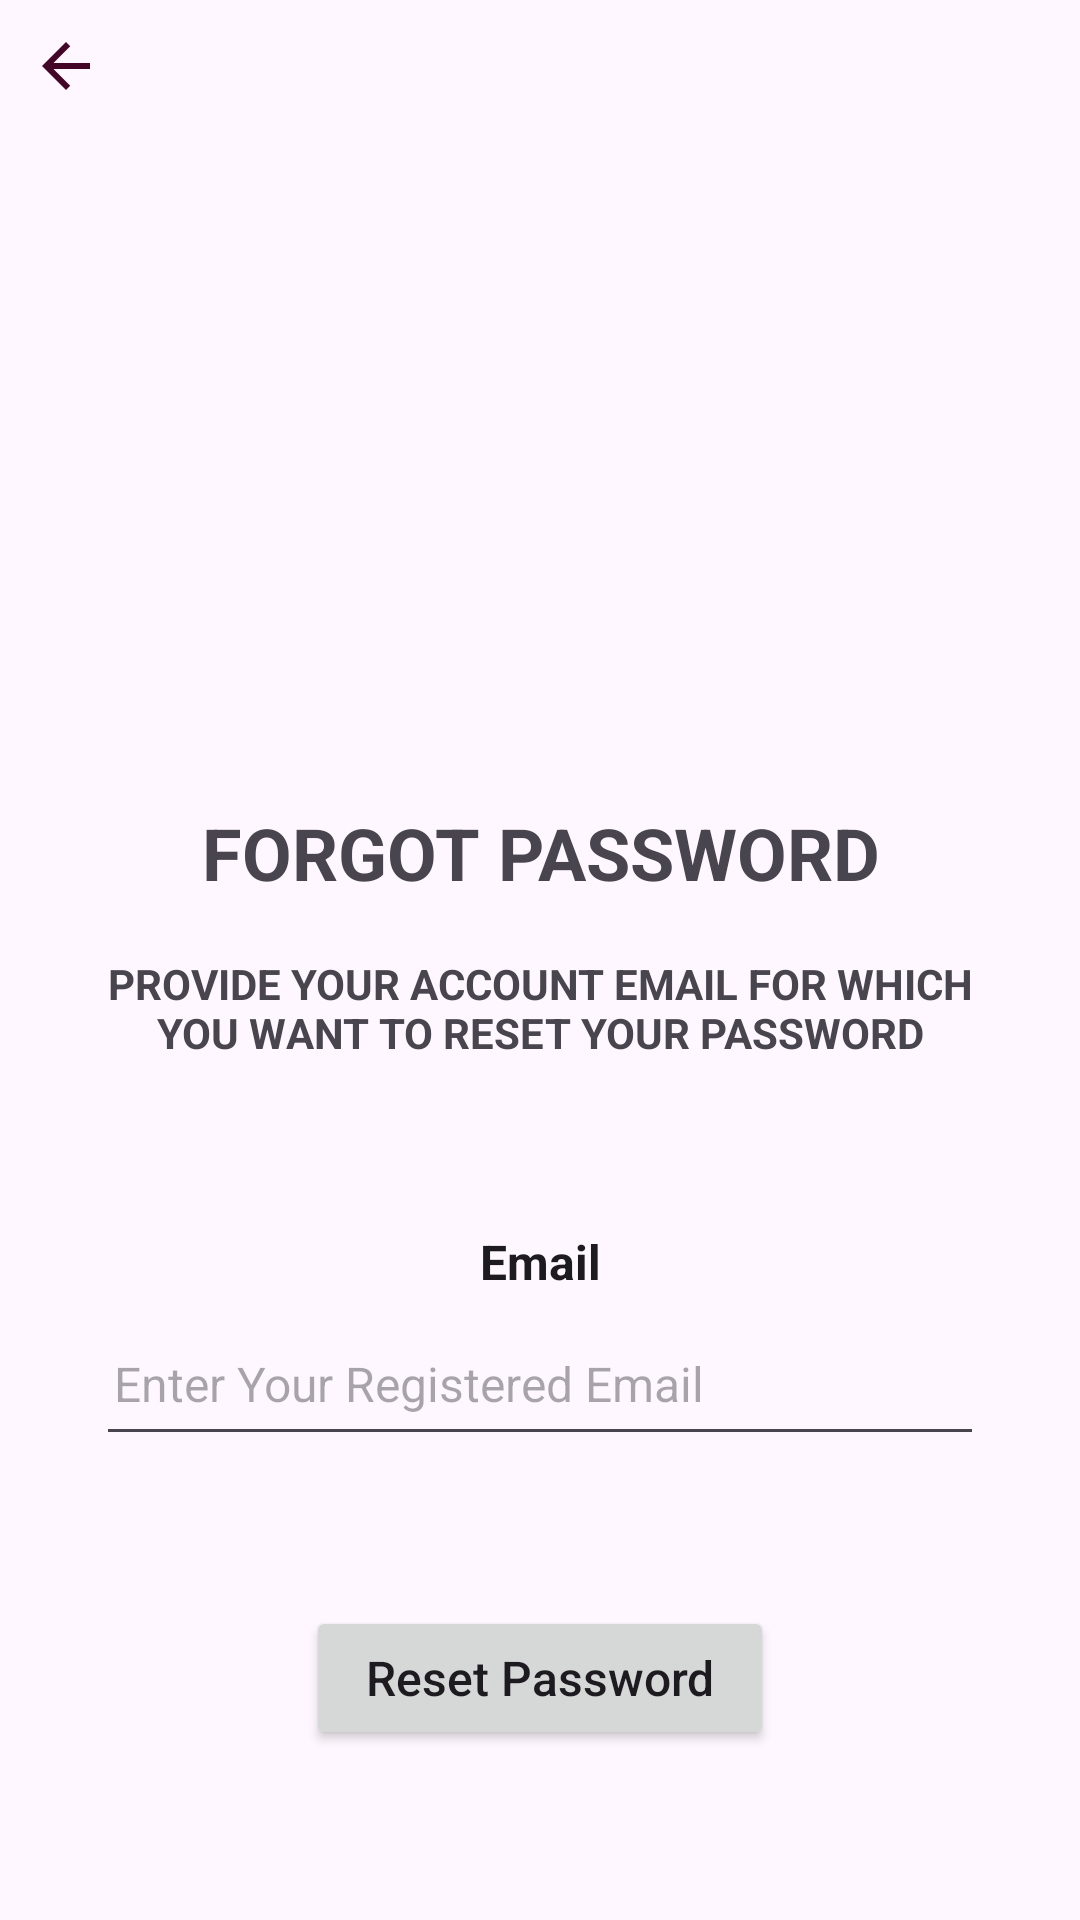

Icons on this 1080 × 1920 Android screen, each with its box as (x1, y1, x2, y2):
back: (42, 42, 90, 90)
